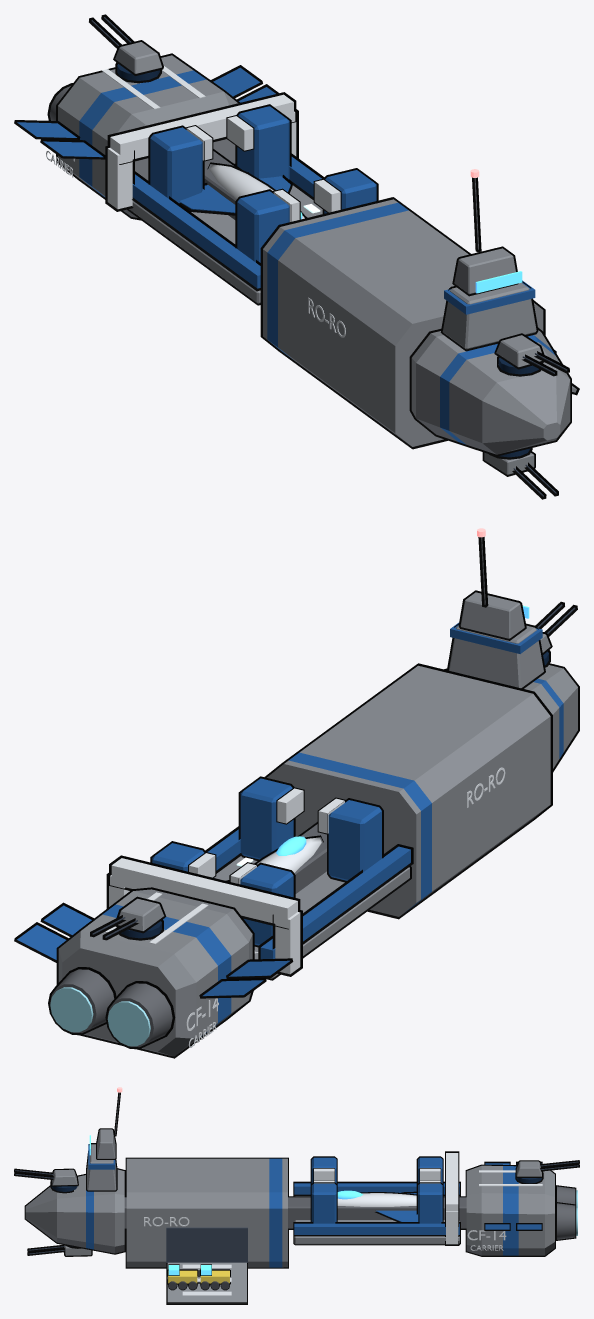
File: Cargo_Frigate_Carrier.fbx
3 renders of one model, top to bottom at view 1: azimuth 30°, elevation 25°; view 2: azimuth 150°, elevation 25°; view 3: azimuth 270°, elevation 25°, orthographic. The views are drawn at different scales.
Parts seen in each view (by area): view 1: RoRo_Hangar, Bow.003, Engine.003, Bridge_A.003, Cradle_Rail-, Clamp0-10.3, Cradle_Arch, Clamp010.3, Cradle_Deck, Clamp0-1-0.3, Bridge_B.003, Cradle_ArchLeg-1 (+14 smaller); view 2: RoRo_Hangar, Engine.003, Cradle_Arch, Clamp0-1-0.3, Cradle_Rail-, Bridge_A.003, Clamp01-0.3, Cradle_Deck, Bow.003, Bridge_B.003, Eng_N00.003, Eng_N10.003 (+15 smaller); view 3: RoRo_Hangar, Engine.003, Bow.003, RoRo_Opening, Cradle_Rail+, RoRo_Ramp, Spine.003, Cradle_Deck, Cradle_Rail-, Clamp01-0.3, Clamp010.3, Craft0_Body (+13 smaller).
Boxes of the visible parts, x1=… form: RoRo_Hangar: x1=260, y1=197, x2=545, y2=449; Bow.003: x1=409, y1=327, x2=571, y2=456; Engine.003: x1=56, y1=53, x2=239, y2=220; Bridge_A.003: x1=440, y1=281, x2=538, y2=351; Cradle_Rail-: x1=132, y1=171, x2=260, y2=291; Clamp0-10.3: x1=148, y1=125, x2=204, y2=203; Cradle_Arch: x1=107, y1=92, x2=296, y2=164; Clamp010.3: x1=235, y1=104, x2=291, y2=180; Cradle_Deck: x1=127, y1=163, x2=322, y2=305; Clamp0-1-0.3: x1=235, y1=189, x2=291, y2=262; Bridge_B.003: x1=452, y1=246, x2=518, y2=296; Cradle_ArchLeg-1: x1=105, y1=146, x2=134, y2=211; RoRo_Hangar: x1=264, y1=663, x2=552, y2=919; Engine.003: x1=56, y1=887, x2=254, y2=1058; Cradle_Arch: x1=109, y1=855, x2=300, y2=929; Clamp0-1-0.3: x1=327, y1=798, x2=383, y2=882; Cradle_Rail-: x1=258, y1=844, x2=413, y2=959; Bridge_A.003: x1=447, y1=623, x2=545, y2=688; Clamp01-0.3: x1=238, y1=776, x2=295, y2=860; Cradle_Deck: x1=214, y1=856, x2=411, y2=980; Bow.003: x1=444, y1=663, x2=579, y2=772; Bridge_B.003: x1=458, y1=590, x2=526, y2=640; Eng_N00.003: x1=105, y1=981, x2=175, y2=1049; Eng_N10.003: x1=48, y1=967, x2=116, y2=1035; RoRo_Hangar: x1=125, y1=1157, x2=288, y2=1268; Engine.003: x1=465, y1=1164, x2=555, y2=1256; Bow.003: x1=24, y1=1168, x2=125, y2=1254; RoRo_Opening: x1=166, y1=1227, x2=247, y2=1262; Cradle_Rail+: x1=293, y1=1222, x2=460, y2=1236; RoRo_Ramp: x1=166, y1=1262, x2=247, y2=1304; Spine.003: x1=124, y1=1196, x2=466, y2=1229; Cradle_Deck: x1=293, y1=1196, x2=460, y2=1245; Cradle_Rail-: x1=293, y1=1181, x2=460, y2=1195; Clamp01-0.3: x1=310, y1=1182, x2=337, y2=1223; Clamp010.3: x1=416, y1=1182, x2=443, y2=1223; Craft0_Body: x1=337, y1=1192, x2=416, y2=1206.
Bounding box in the file's own units: 20.09 × 21.42 × 62.86.
